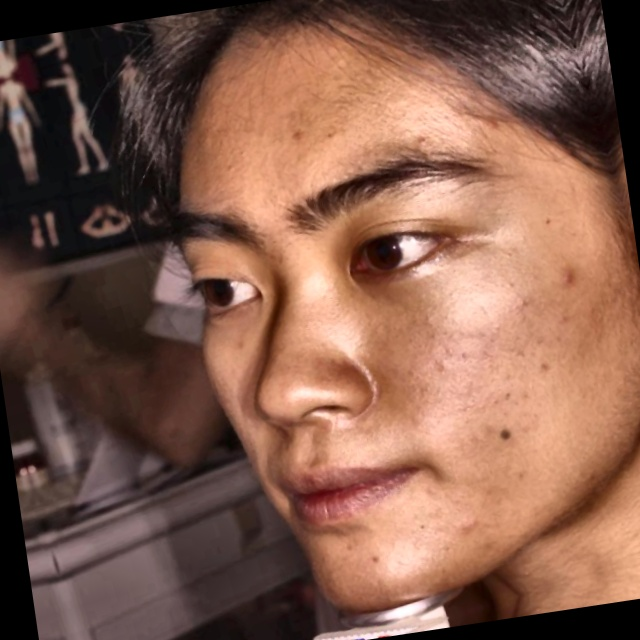comedone: (543, 258, 582, 299)
